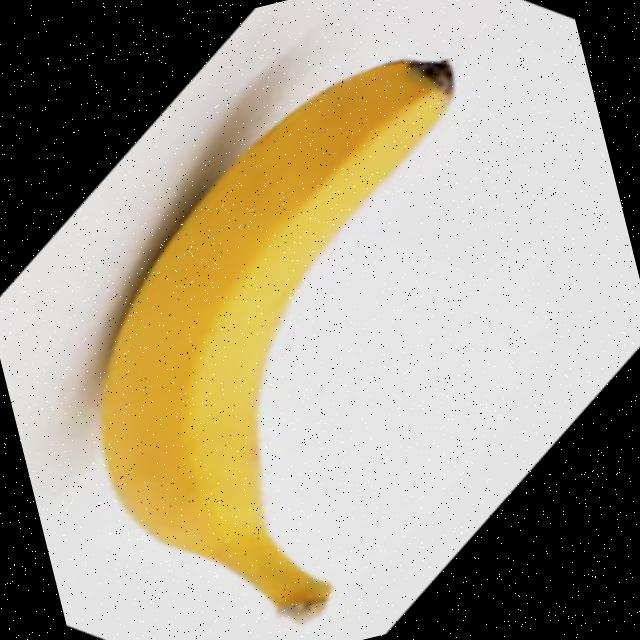banana: (28, 44, 577, 640)
